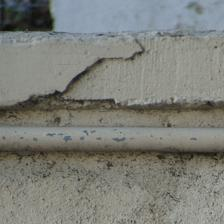Crack: (3, 19, 146, 93)
